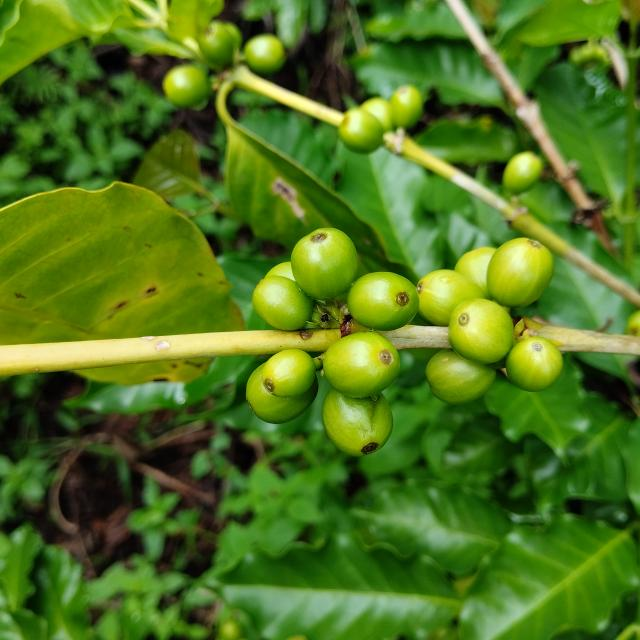green: (323, 332, 400, 398), (290, 228, 358, 300), (323, 390, 393, 457), (488, 238, 555, 307), (246, 364, 319, 424), (348, 272, 420, 331), (449, 299, 514, 364), (426, 349, 497, 405), (417, 269, 485, 326), (252, 275, 313, 331), (506, 336, 564, 392), (262, 349, 317, 397), (455, 247, 497, 299), (162, 64, 210, 107), (339, 108, 384, 153), (503, 151, 544, 194), (390, 84, 424, 128), (265, 261, 295, 281)
